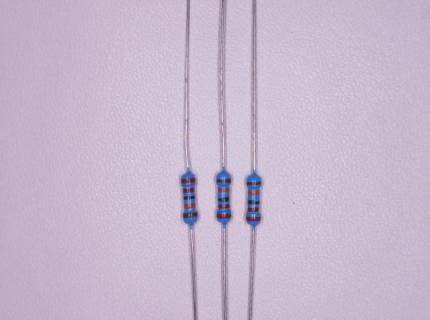Black band: (218, 196, 229, 202), (184, 195, 195, 201), (248, 200, 260, 205)
Brown band: (183, 212, 197, 219), (216, 179, 231, 183), (247, 181, 261, 185)
Orange band: (184, 203, 196, 209), (218, 188, 230, 193), (248, 191, 260, 195)
Red band: (180, 177, 195, 184), (217, 213, 231, 219), (246, 216, 261, 221), (183, 187, 195, 193), (218, 204, 230, 209), (248, 207, 260, 212)
